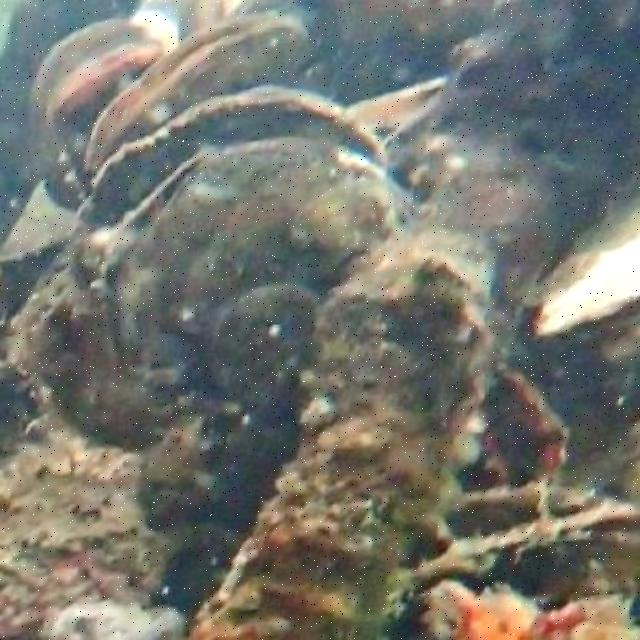Oyster-Closed: (188, 258, 492, 638), (33, 22, 164, 156), (543, 195, 638, 340), (51, 32, 166, 127), (347, 77, 444, 127)
Oyster-Open: (101, 139, 435, 400), (83, 17, 306, 170)
